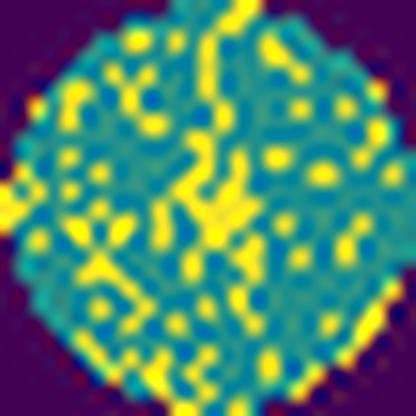Center: (151, 128, 268, 284)
